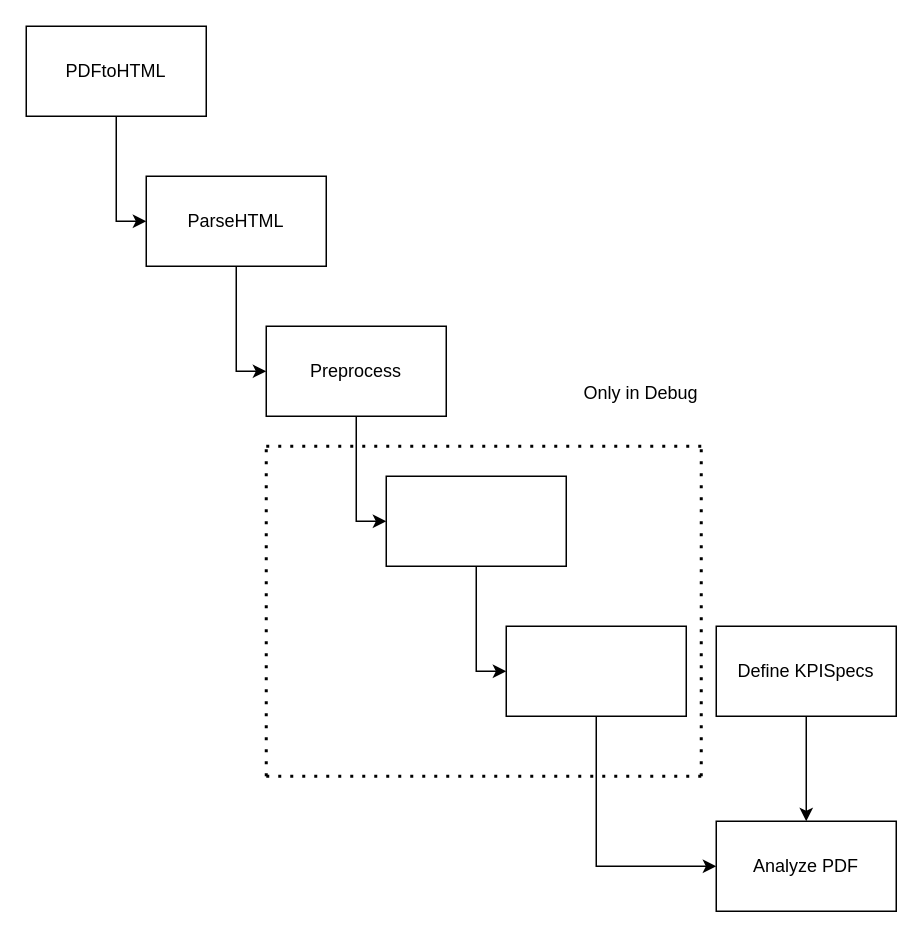
Image size: 923x938. Some labels were removed from this diagram. Each missing label, with the box of its shape:
Load From JSON: (505, 625, 686, 716)
Serialize to Json / Save as PNG: (385, 475, 566, 566)
